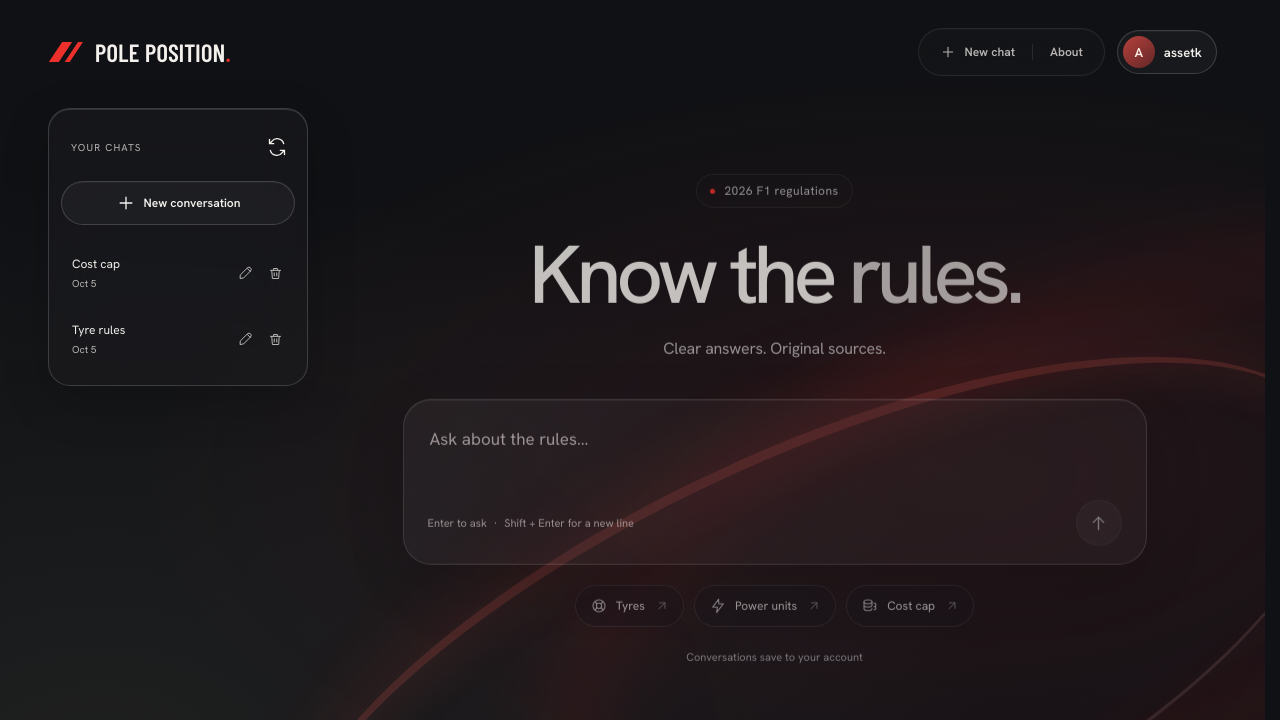
Test: saved conversation interface › failed deletion stays in its dialog and preserves the saved conversation
Expected: the button with aria-label "Open conversation: Tyre rules" is shown, [62,310,230,368]
Click the button named "Delete conversation: Tyre rules".
click(275, 339)  # box [260,321,290,357]
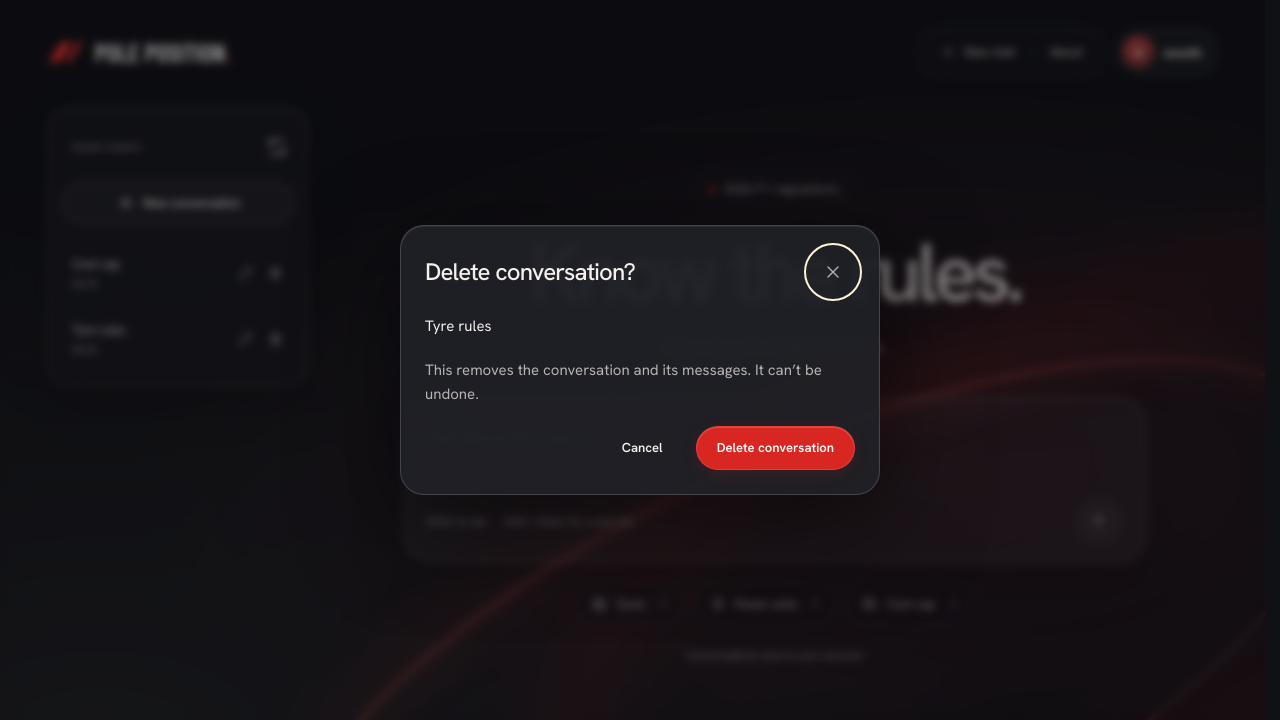
Click the button "Delete conversation".
click(775, 448)  # box [696,426,855,470]
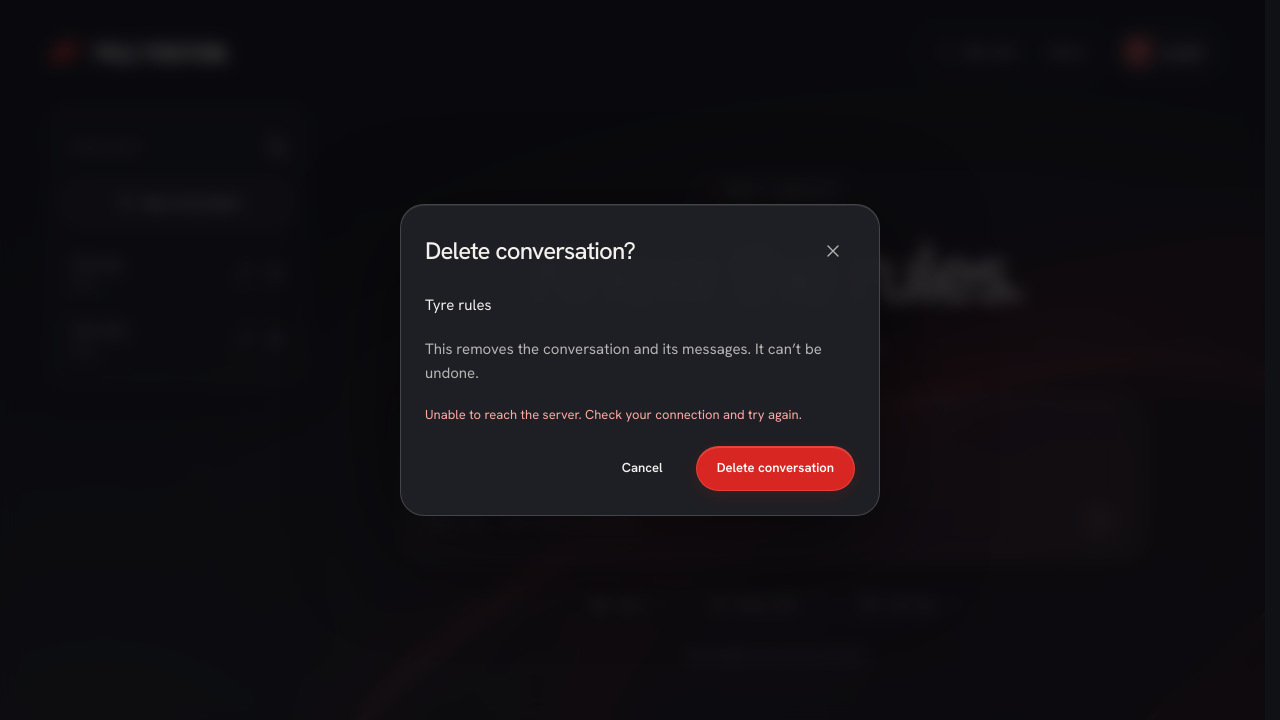
Expected: the dialog is shown, [400,204,880,516]
Expected: the message shows "connection", [425,406,802,423]
